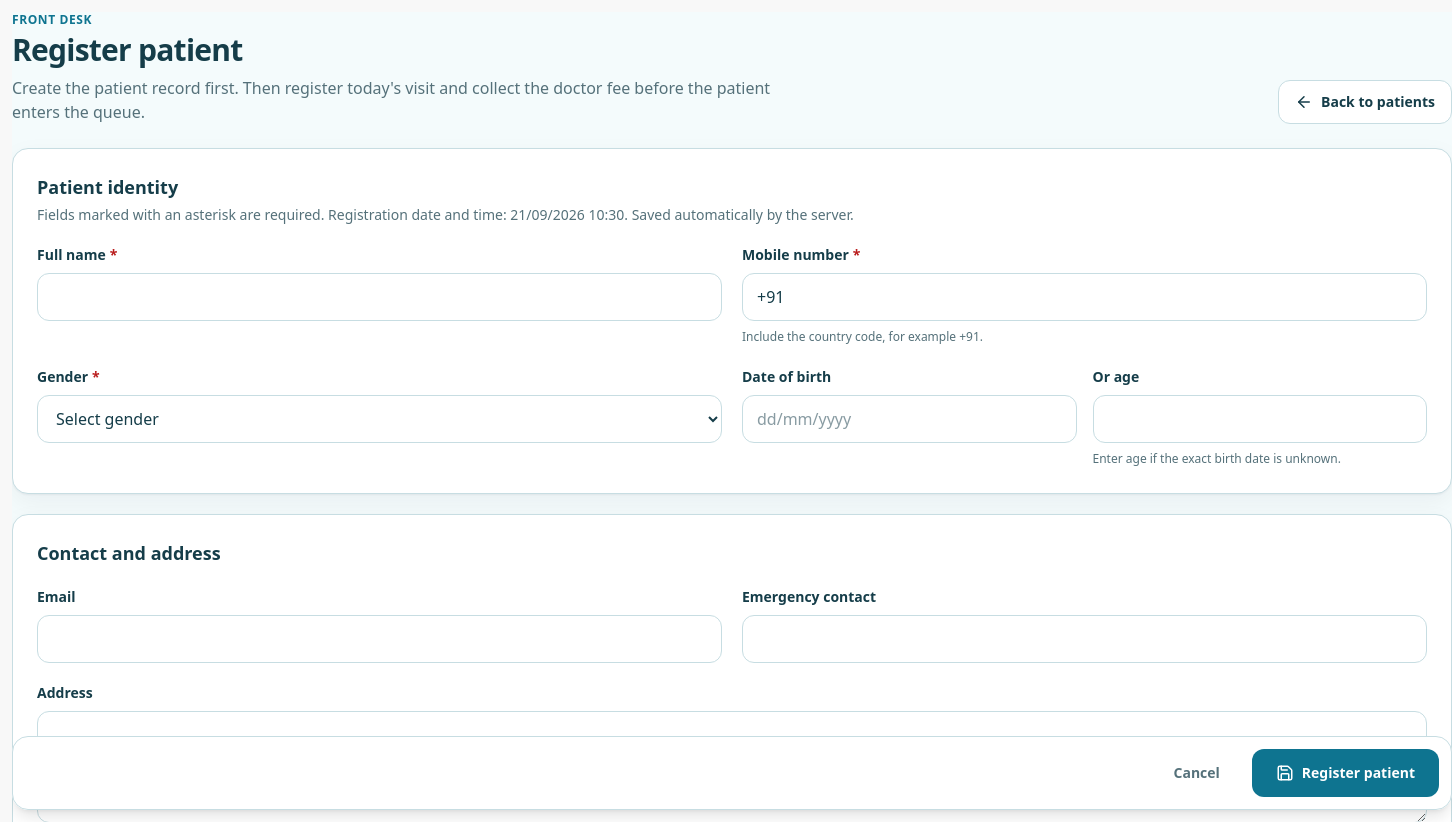
patient registration age calculation › calculates completed years as soon as an exact birth date is entered
The image size is (1452, 822).
Step 1. Type "22/09/2000" into the field labelled "Date of birth" → (909, 419), box [742,395,1076,443]
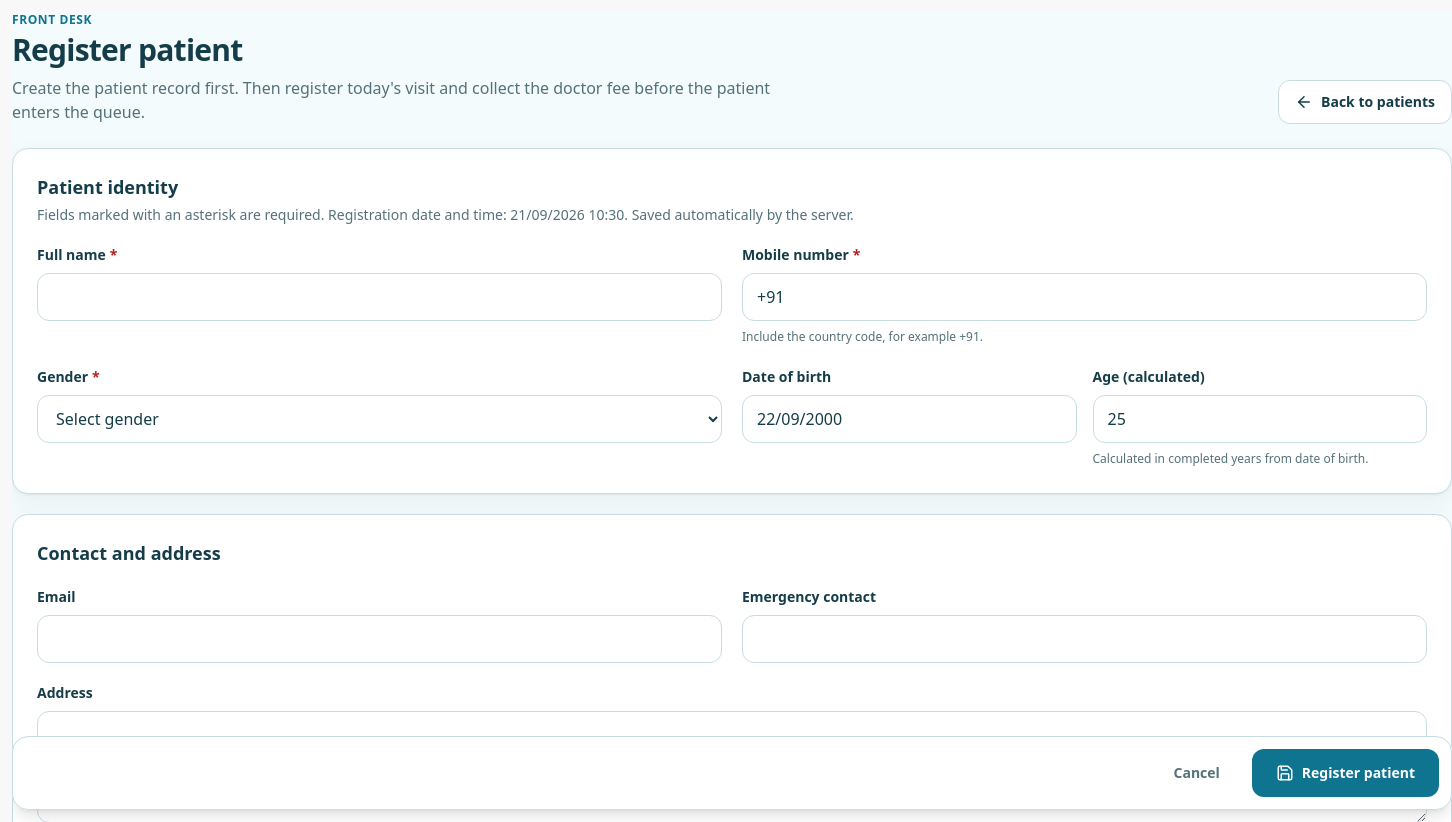
Now the number field labelled "Age (calculated)" holds "25", box [1092,395,1427,443]
Step 2. Replace the text in the field labelled "Date of birth" with "21/09/2000" → (909, 419), box [742,395,1076,443]
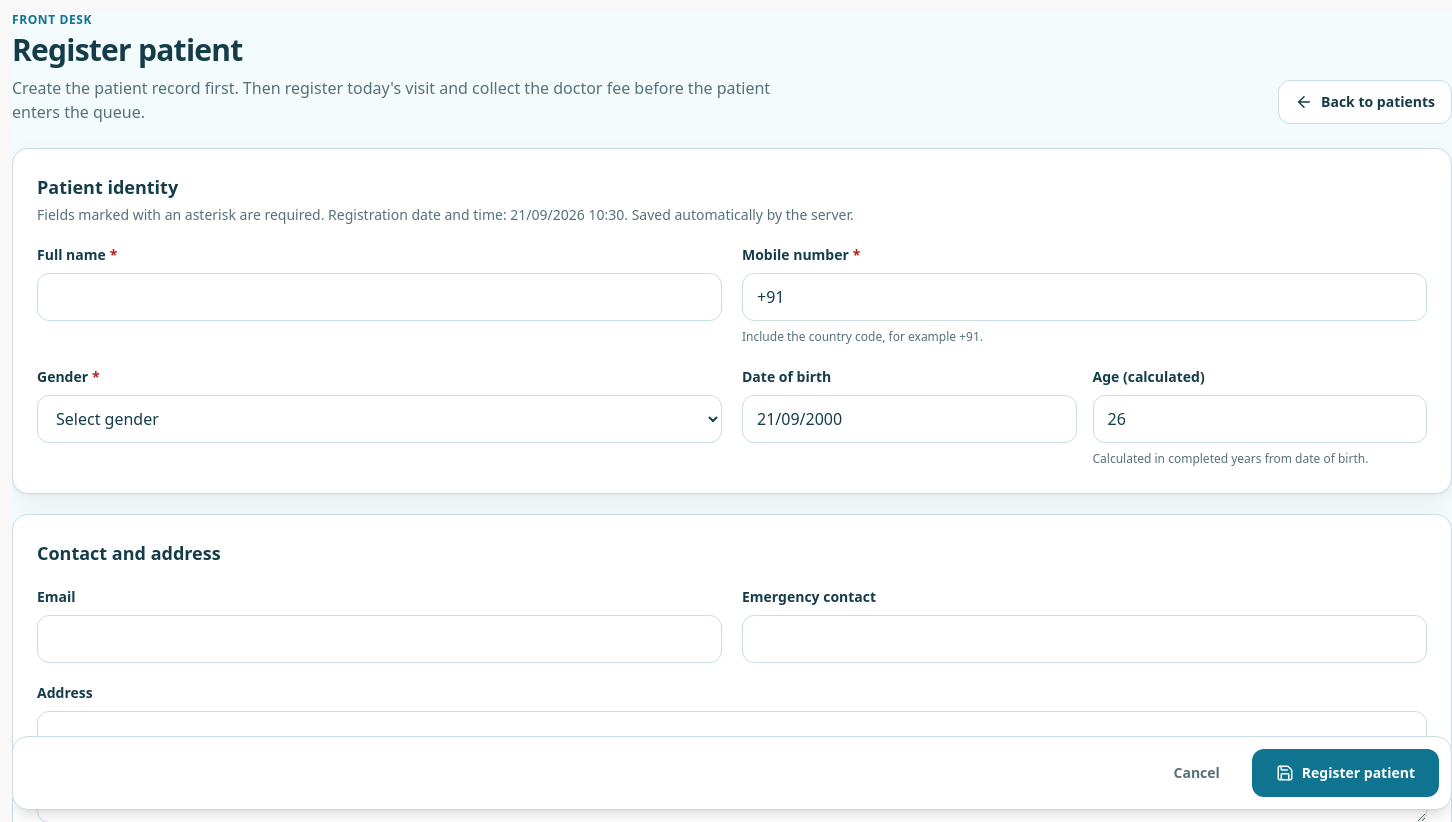
Now the number field labelled "Age (calculated)" holds "26", box [1092,395,1427,443]
